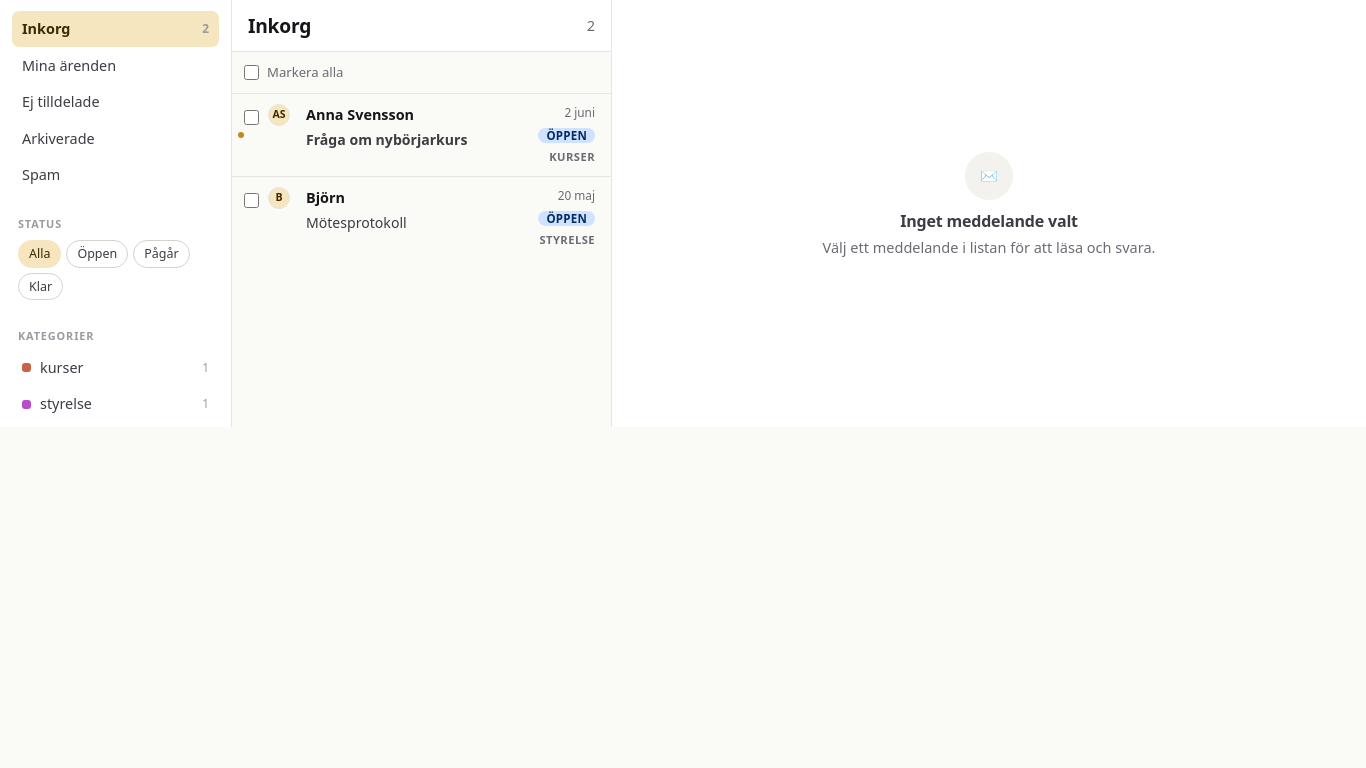
InboxView (integration with store + fetch shim) › the Spam folder lists spam, and Inte spam puts it back in the inbox
Click the button with test id "filter-spam" at (116,175), box [12,157,219,193]
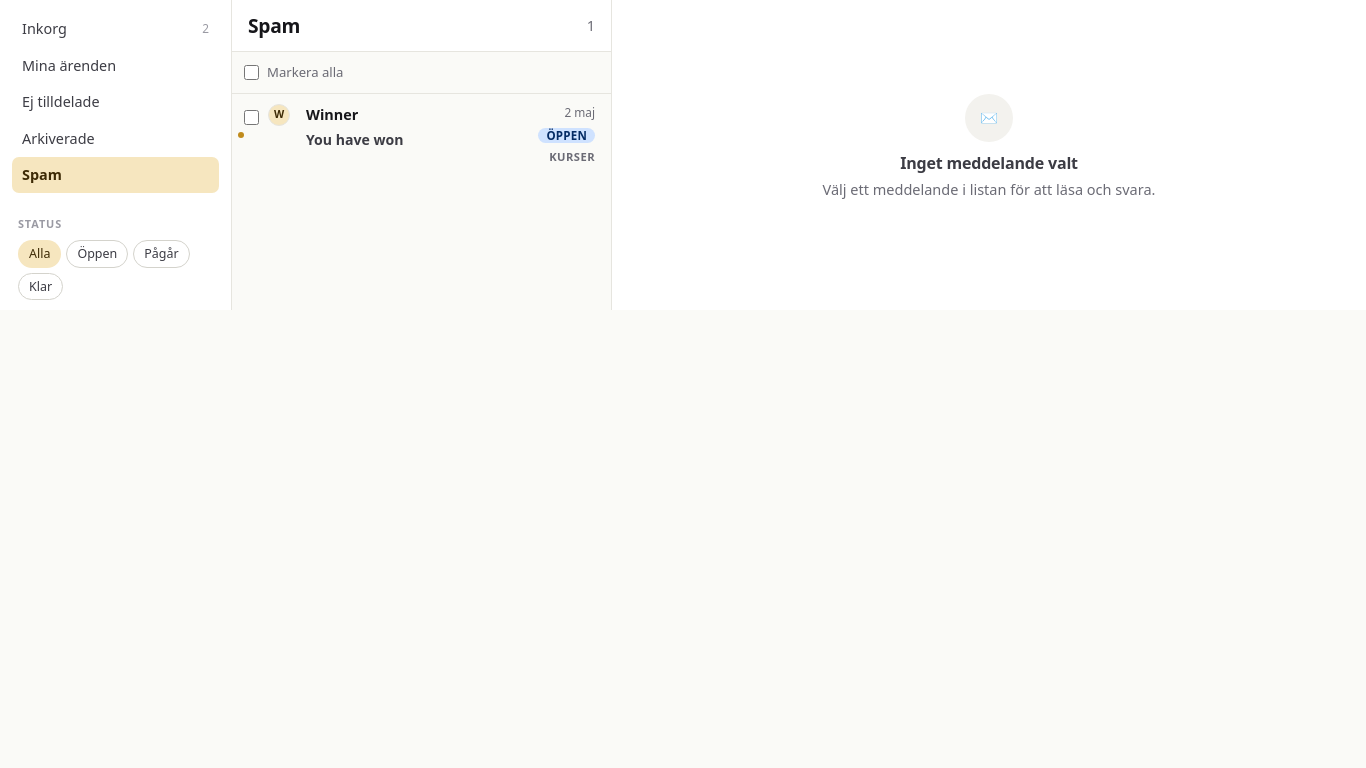
Expected: the text "You have won" is shown, [306,130,404,149]
Expected: the number of buttons with class "list-item" is 1
Click the button with class "list-item" at (332,114), box [232,94,611,176]
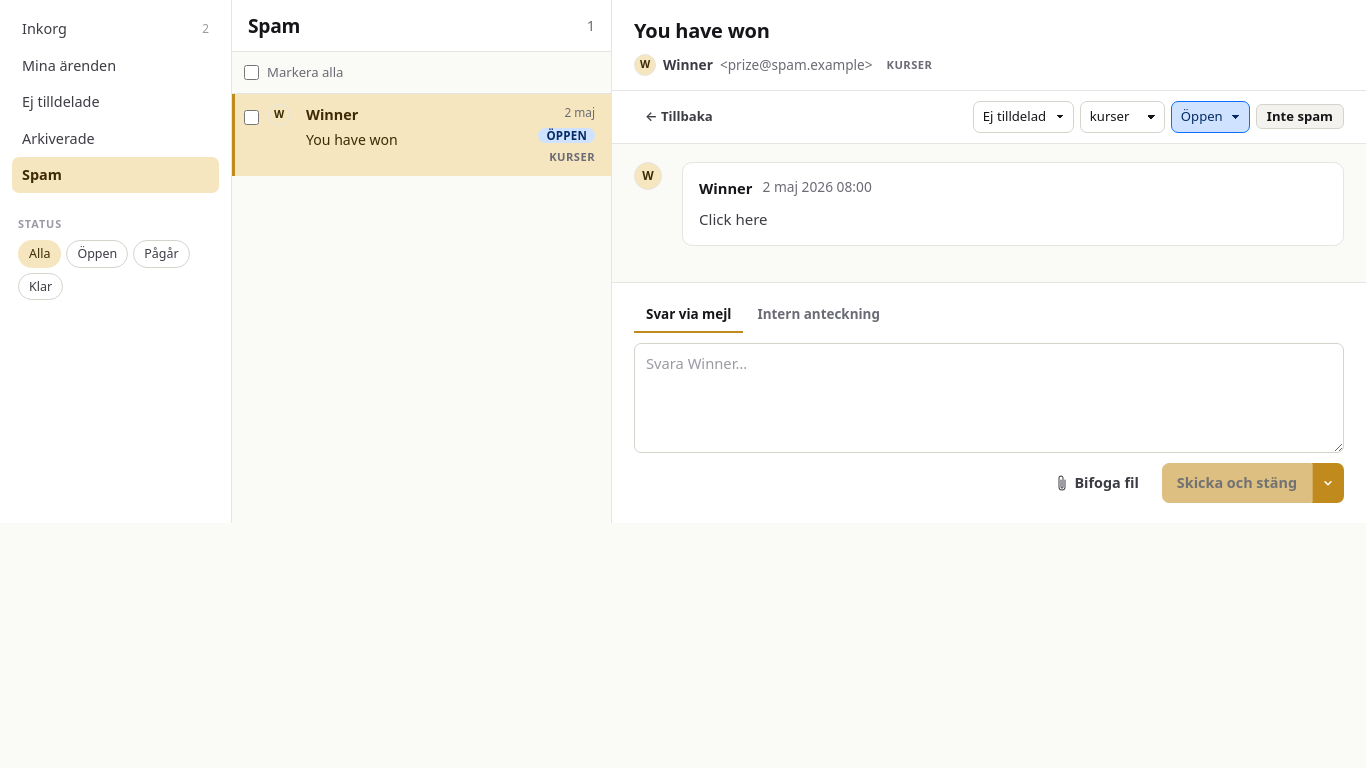
Click the button with test id "not-spam" at (1300,117), box [1256,104,1344,129]
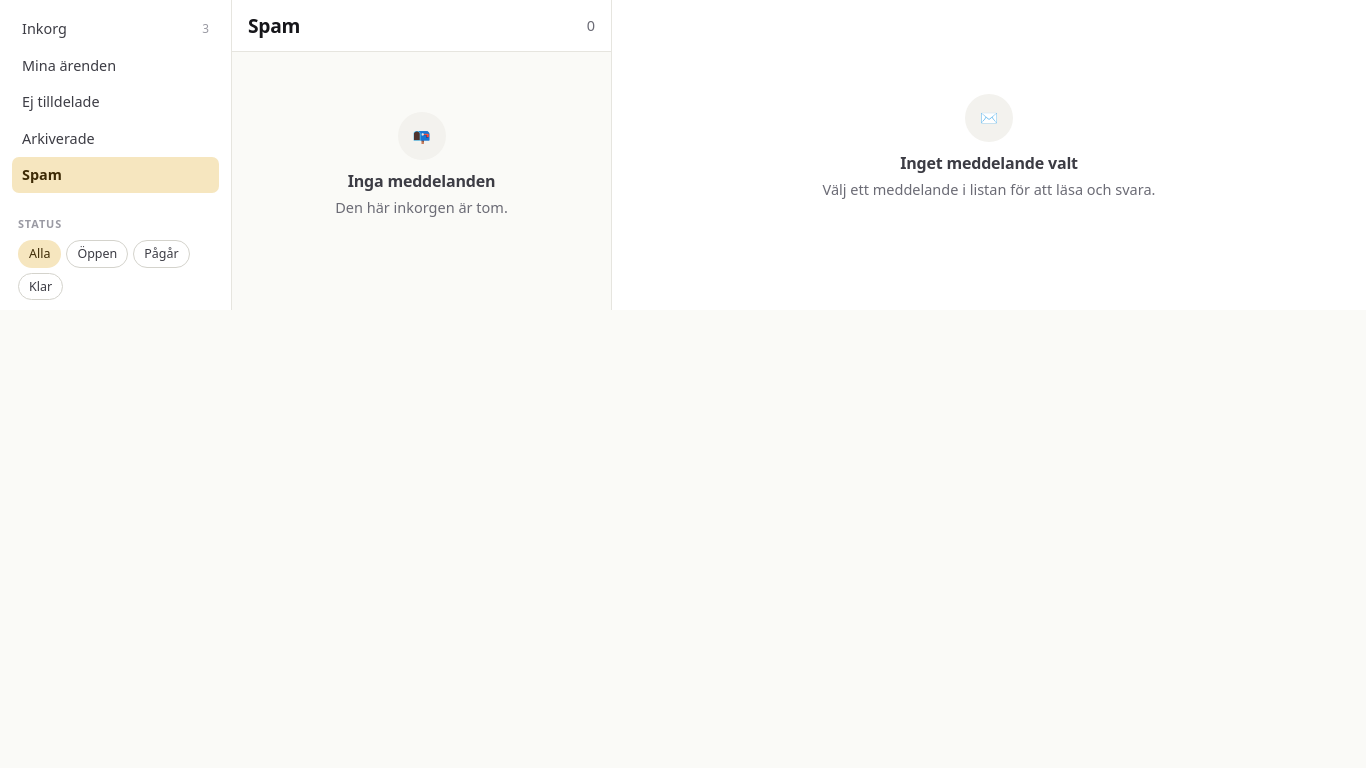
Expected: no buttons with class "list-item" are shown
Click the button with class "side-link" showing "Inkorg 3" at (116,29), box [12,11,219,47]
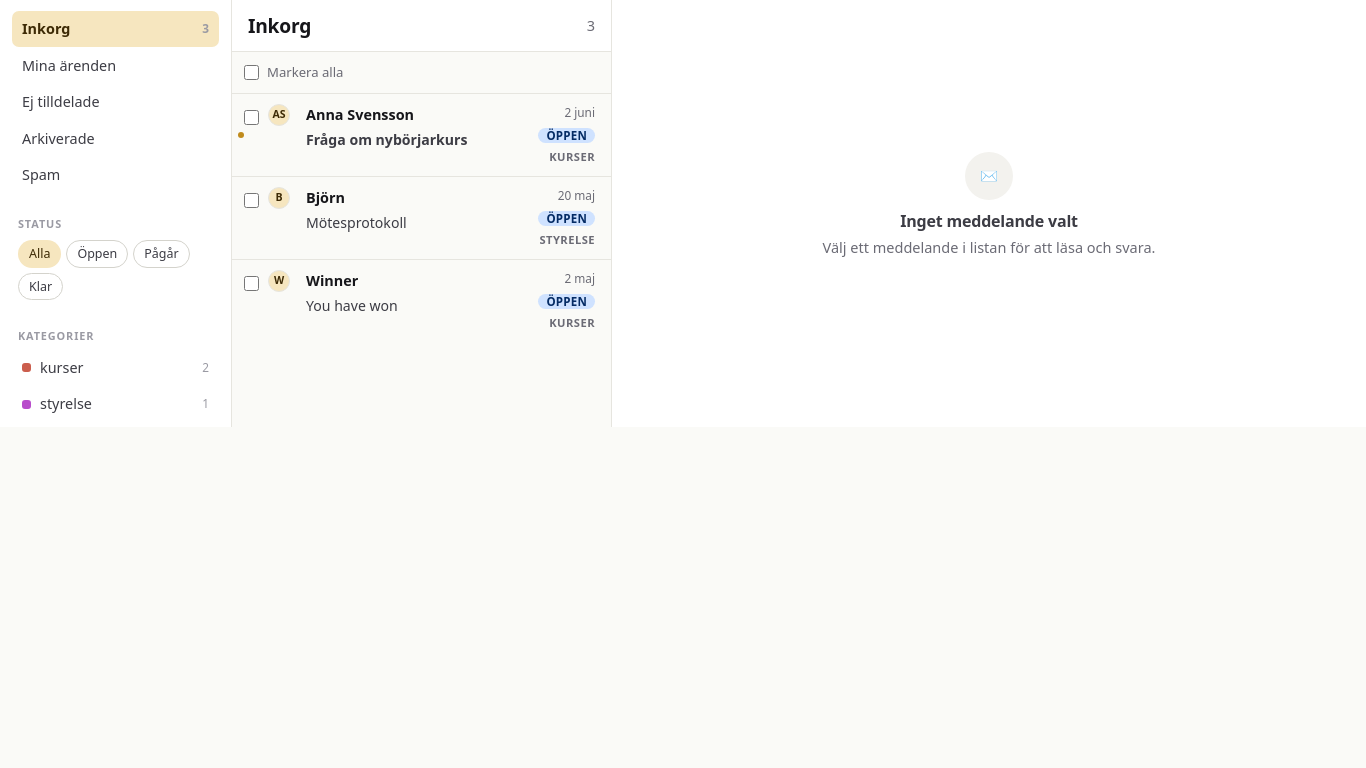
Expected: the text "You have won" is shown, [306,296,398,315]
